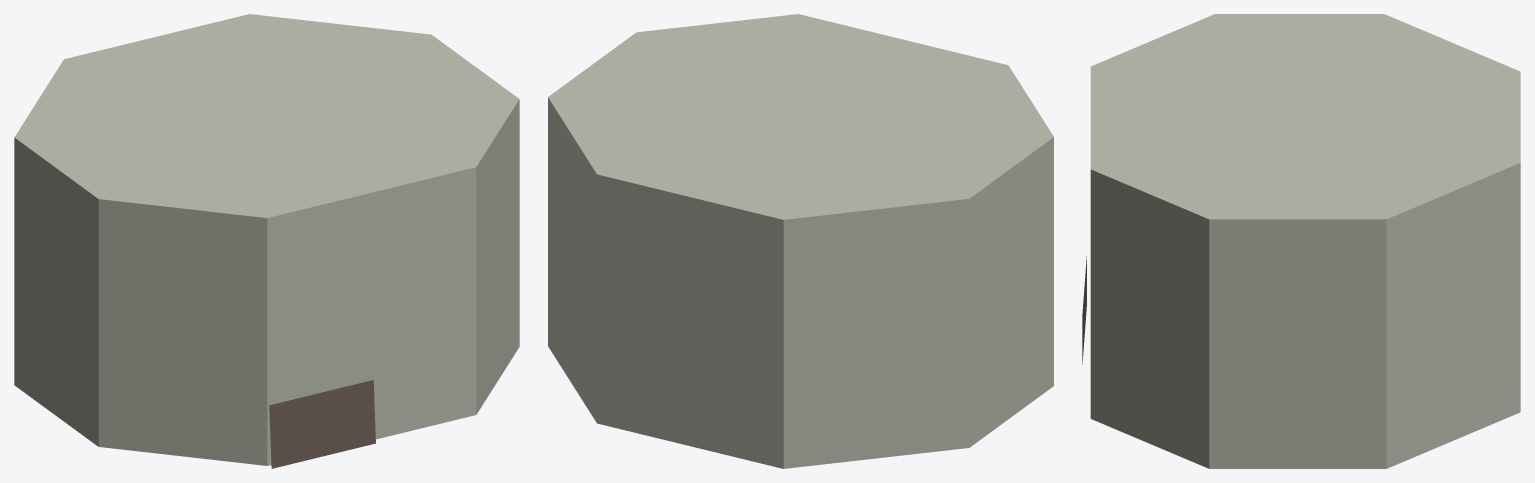
The model's file is loin-etape-1.glb.
The picture shows the model from 3 angles, left to right: view 1: azimuth 30°, elevation 25°; view 2: azimuth 150°, elevation 25°; view 3: azimuth 270°, elevation 25°; orthographic projection.
Visible parts, largest first — view 1: loin; view 2: loin; view 3: loin.
Boxes of the visible parts, <box> form: loin: <box>14,14,519,468</box>; loin: <box>548,14,1053,468</box>; loin: <box>1082,14,1520,468</box>.
Bounding box in the file's own units: 0.69 × 0.3907 × 0.6221.
